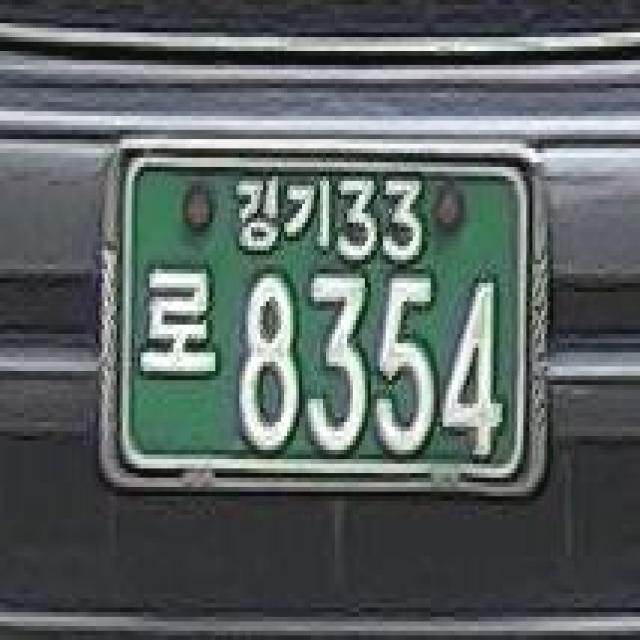illegal_plate: (88, 122, 561, 521)
